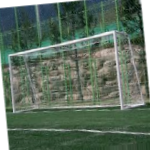goals: (7, 31, 145, 115)
